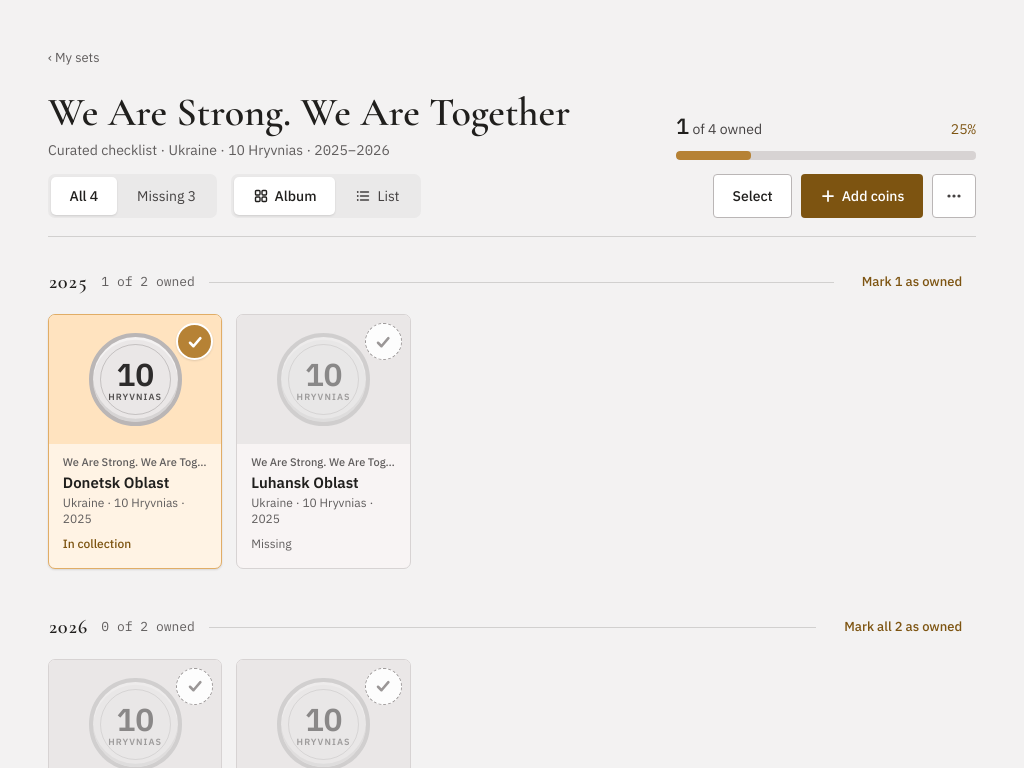
SetEditorPage › rename (behind the ⋯ menu) › swaps the h1 text for a focused input holding the whole name, selected
Check: the heading "We Are Strong. We Are Together" is shown, box [48,90,648,134]
What coordinates should you click on to do the following:
click the button with test id "set-editor-actions-trigger"
I would click on:
 (954, 196)
Its box is [932,174,976,218].
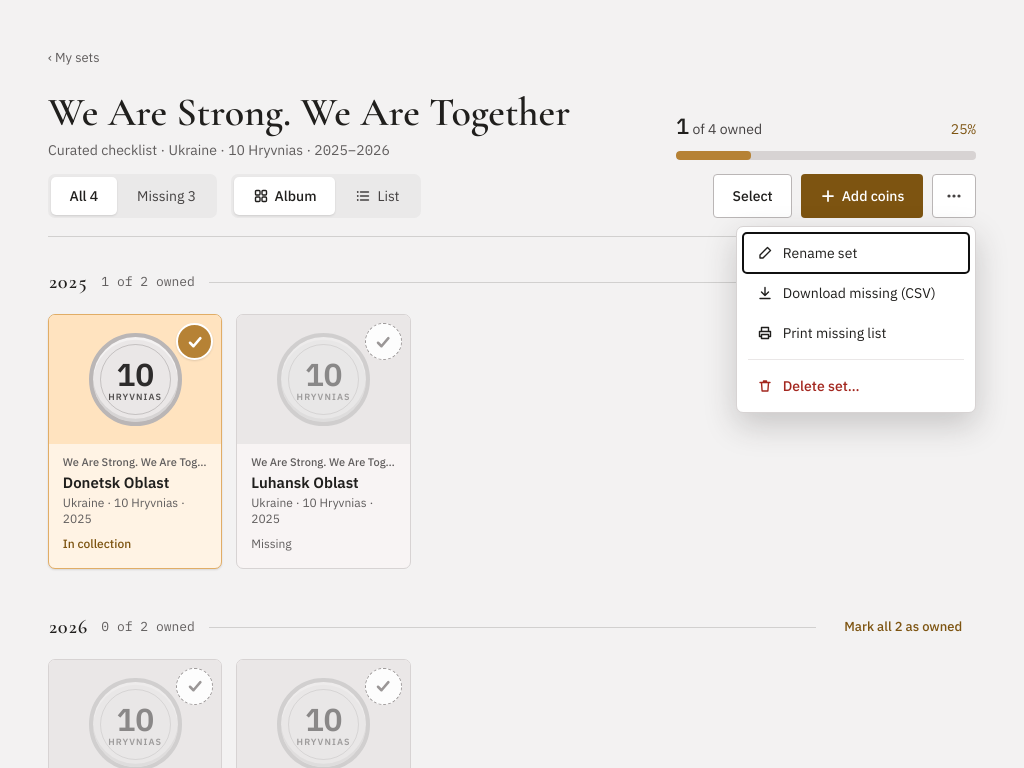
What coordinates should you click on to do the following:
click the menu item with test id "set-editor-rename-item"
I would click on:
 (856, 253)
Its box is [743,233,969,273].
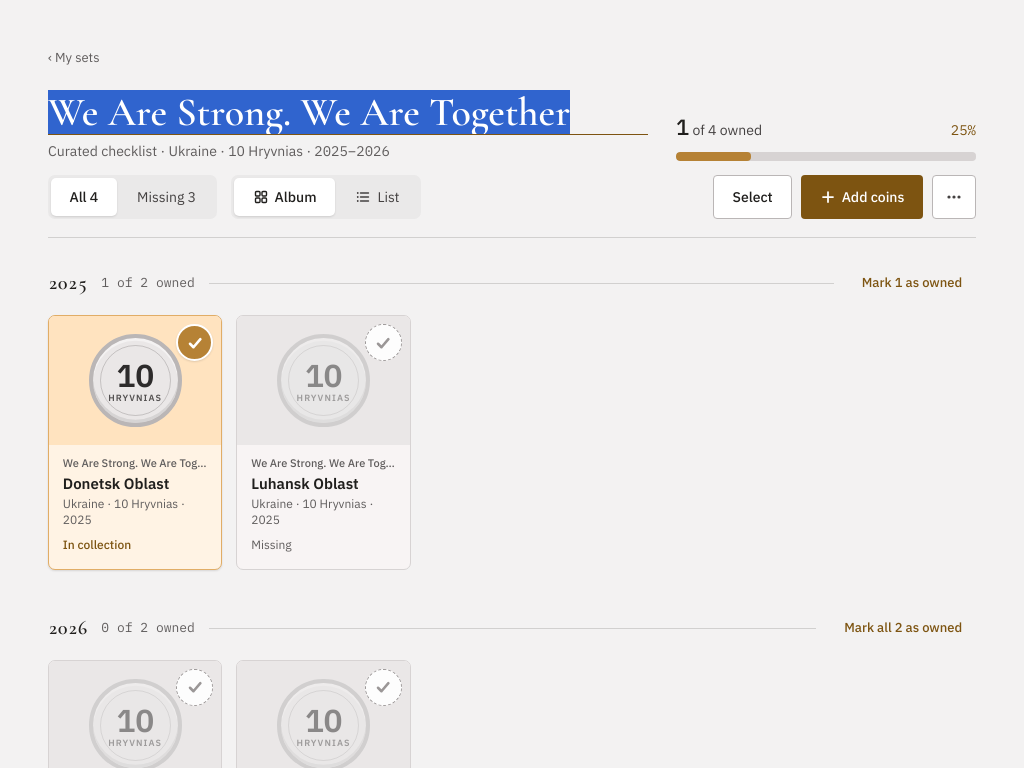
Check: the field with test id "set-editor-name-input" holds "We Are Strong. We Are Together", box [48,90,648,135]
Check: the menu with test id "set-editor-actions-menu" is gone
